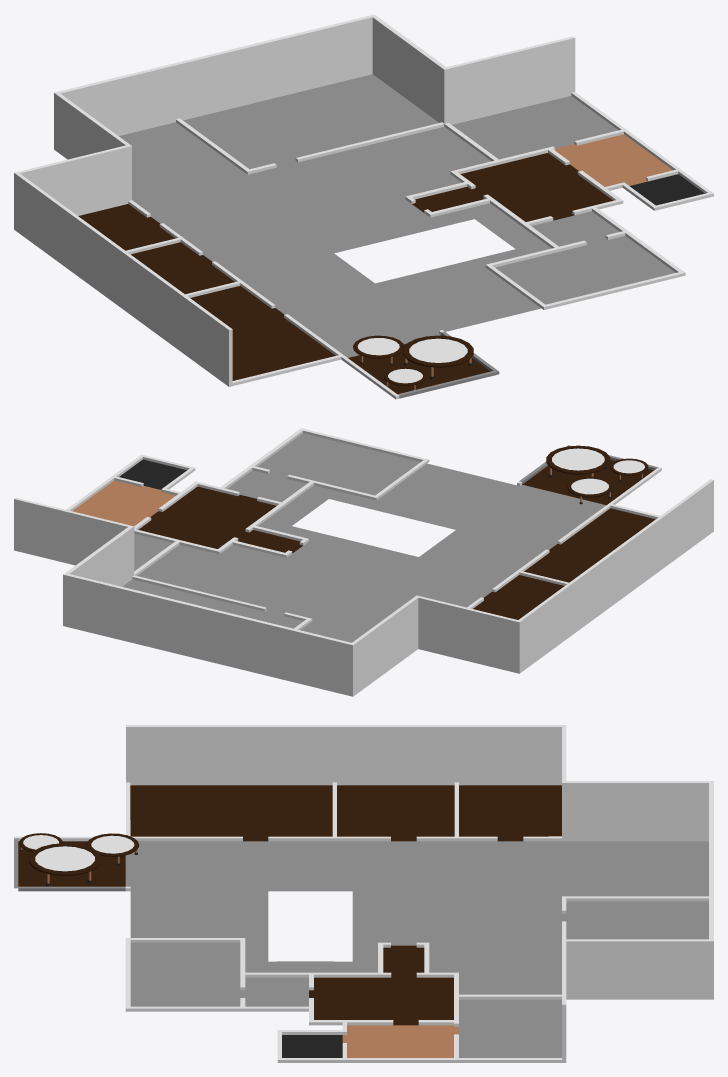
Rendered from Salle_012_b.FBX.
3 views of the same model, one above another, from view 1: azimuth 30°, elevation 25°; view 2: azimuth 150°, elevation 25°; view 3: azimuth 270°, elevation 25° (orthographic). The views are drawn at different scales.
Visible parts, largest first — view 1: Piece_012, Trampoline, Trampoline002, Trampoline001; view 2: Piece_012, Trampoline, Trampoline002, Trampoline001; view 3: Piece_012, Trampoline, Trampoline002, Trampoline001.
Boxes of the visible parts, box(x1,y1,x2,y2) form: Piece_012: box(14, 14, 713, 399); Trampoline: box(403, 335, 473, 379); Trampoline002: box(353, 335, 403, 365); Trampoline001: box(384, 367, 426, 389); Piece_012: box(14, 428, 713, 696); Trampoline: box(546, 445, 610, 477); Trampoline002: box(567, 476, 613, 504); Trampoline001: box(610, 458, 648, 480); Piece_012: box(14, 725, 713, 1062); Trampoline: box(28, 843, 101, 886); Trampoline002: box(86, 833, 139, 865); Trampoline001: box(19, 833, 62, 851).
Bounding box in the file's own units: 3085 × 301 × 3266.
